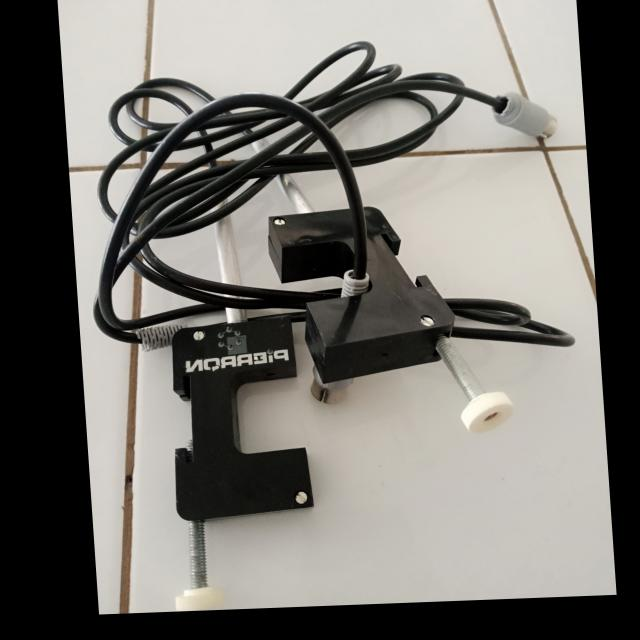Bulb Socket: (84, 48, 579, 440)
